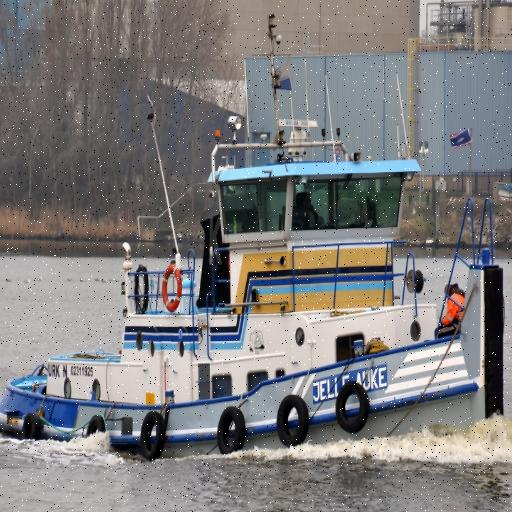tugboat: (1, 113, 512, 483)
